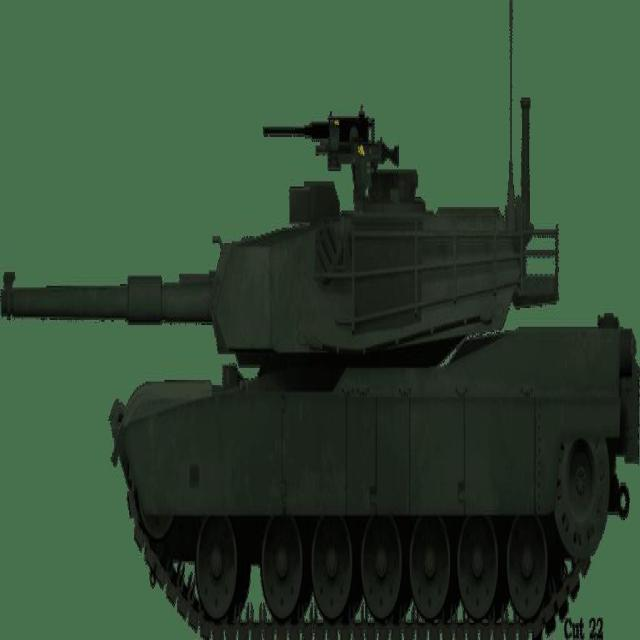Tanks: (29, 99, 632, 613)
